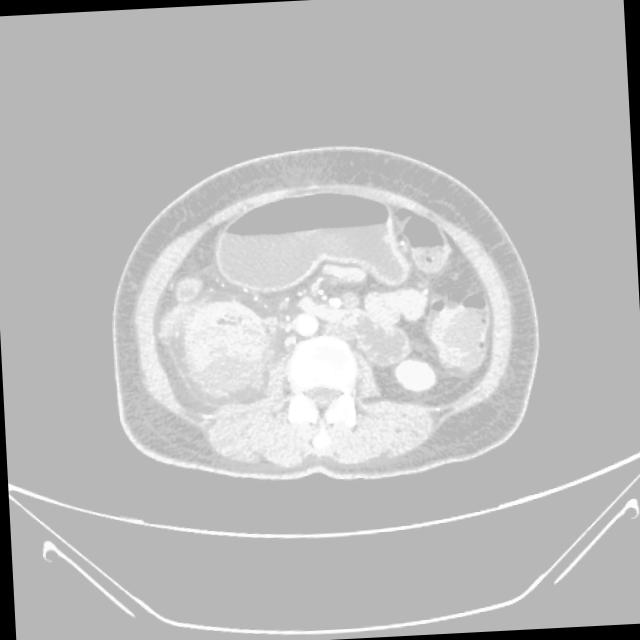TUMOR: (219, 183, 546, 398)
